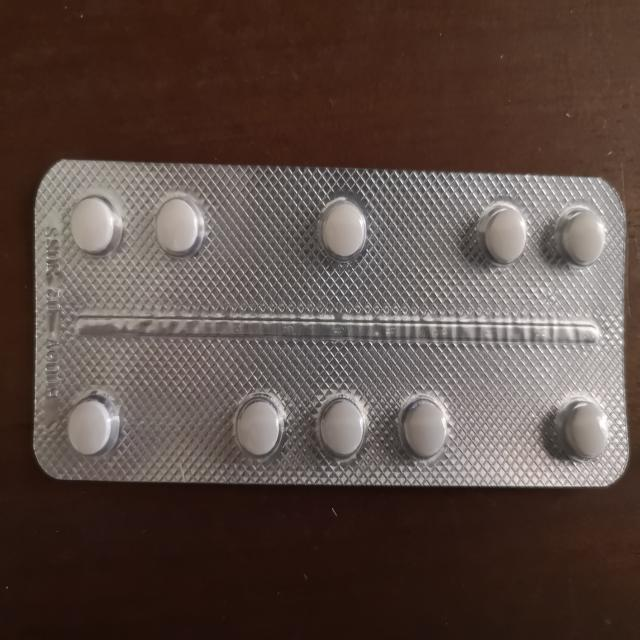Pill: (61, 382, 120, 470), (393, 384, 455, 467), (147, 187, 209, 266), (230, 386, 289, 468), (314, 190, 376, 266), (550, 197, 610, 274), (472, 191, 529, 270), (310, 391, 370, 464), (59, 190, 118, 262), (558, 394, 615, 468)
